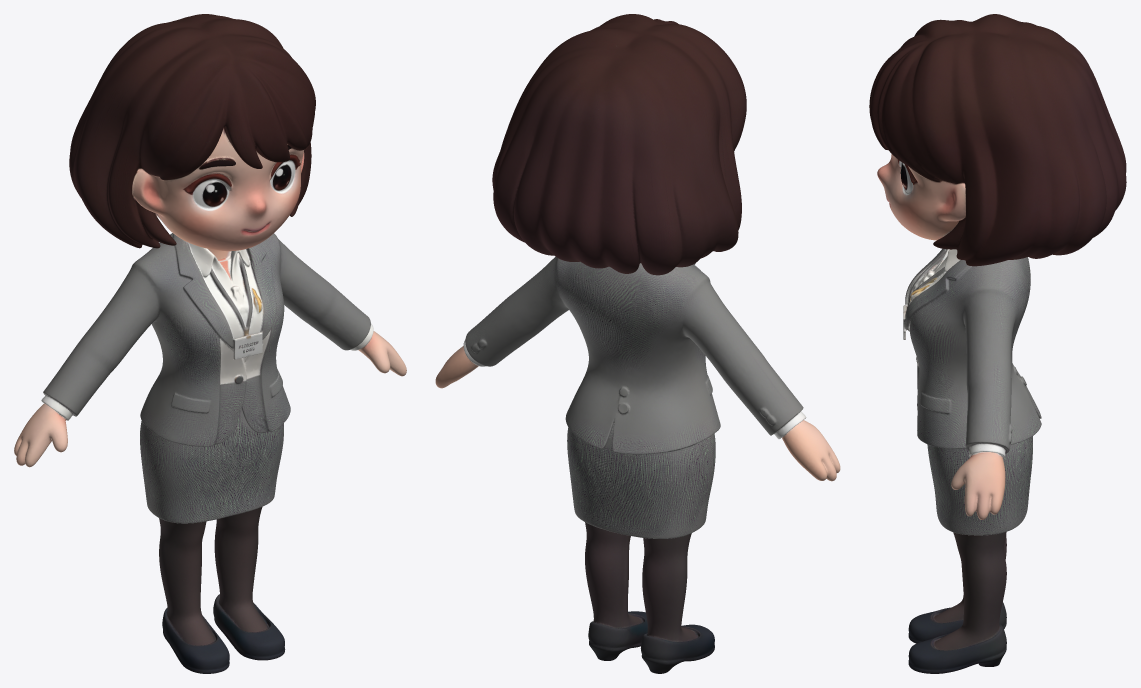
Rendered from char_yeoja_gajang_base.glb.
3 views of the same model, side by side, from view 1: azimuth 30°, elevation 25°; view 2: azimuth 150°, elevation 25°; view 3: azimuth 270°, elevation 25° (orthographic). The views are drawn at different scales.
Bounding box in the file's own units: 0.9943 × 1.5 × 0.563.
Materials: 1 (1 with a texture image).
